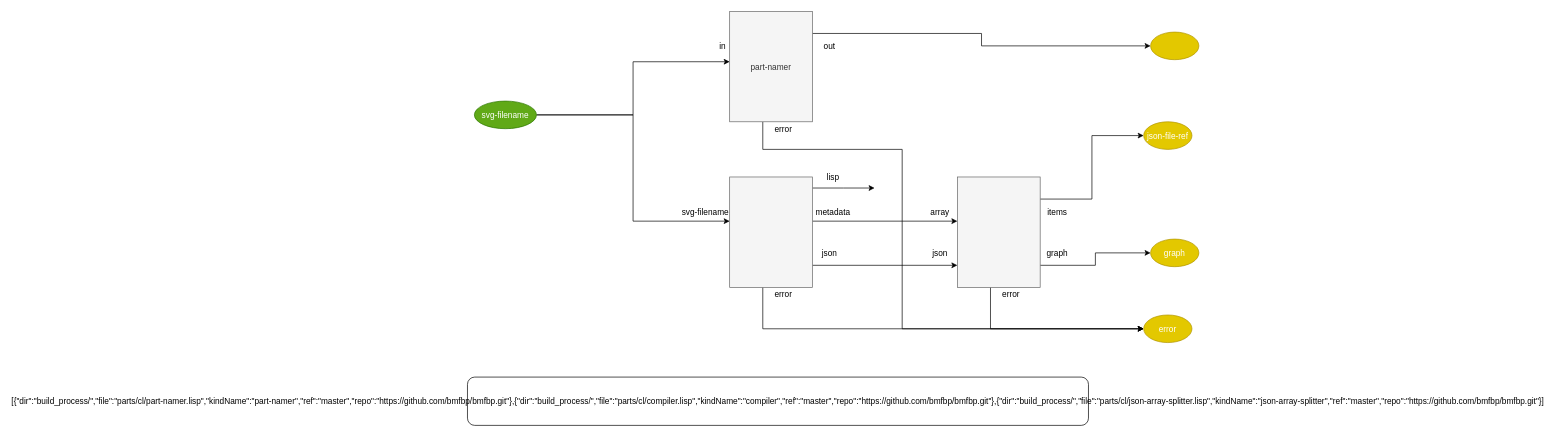
Some shapes in this 1555 by 437 pixel diagram are drawn without their labels. Each missing label, with the centre of its shape:
"compiler" belongs at [770,231].
"json-array-splitter" belongs at [998,231].
"name" belongs at [1174,45].
